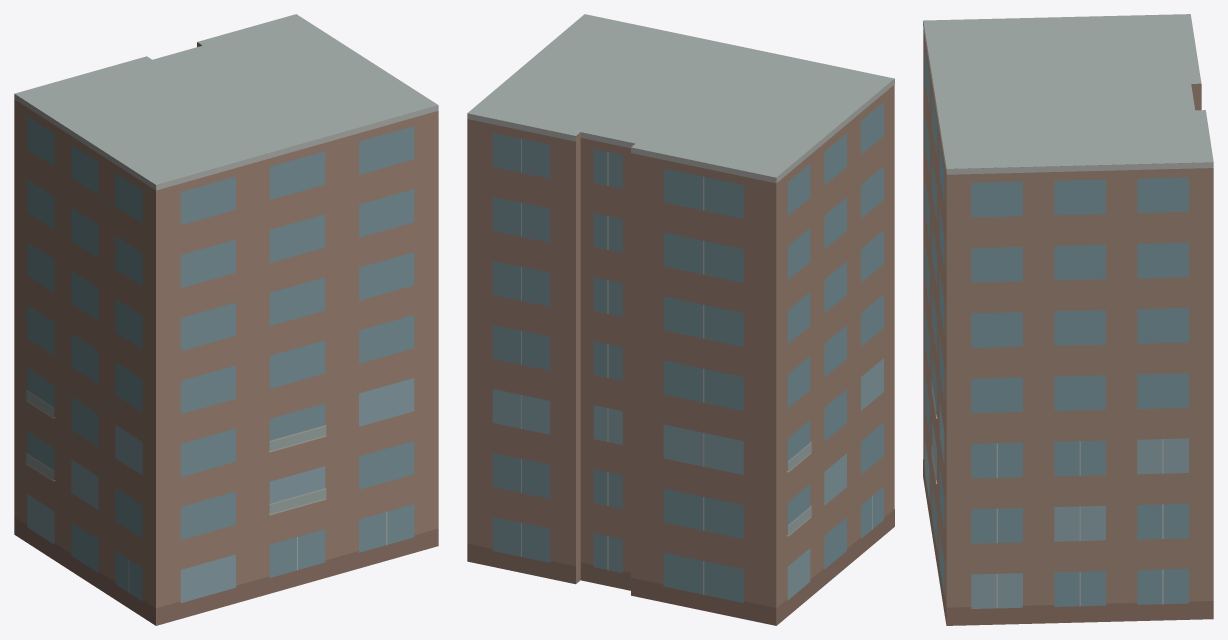
Rendered from survey-upis-32737463.glb.
3 renders of one model, left to right at view 1: azimuth 30°, elevation 25°; view 2: azimuth 150°, elevation 25°; view 3: azimuth 270°, elevation 25°, orthographic. The views are drawn at different scales.
Visible parts, largest first — view 1: survey-upis-32737463.tmp; view 2: survey-upis-32737463.tmp; view 3: survey-upis-32737463.tmp.
Part boxes in pixels (left/top/right/bottom): survey-upis-32737463.tmp: left=14, top=14, right=438, bottom=625; survey-upis-32737463.tmp: left=467, top=14, right=894, bottom=625; survey-upis-32737463.tmp: left=923, top=14, right=1213, bottom=625.
Bounding box in the file's own units: 14.05 × 19.3 × 11.13.
